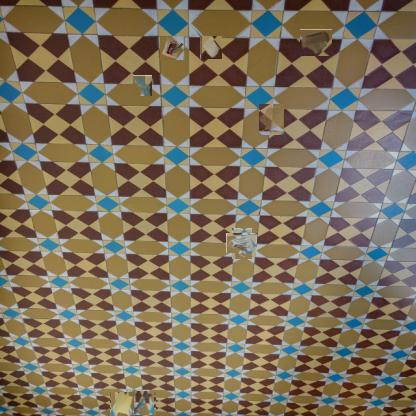dirty: (300, 29, 332, 56), (229, 231, 255, 256), (131, 391, 155, 416), (160, 36, 185, 60), (110, 392, 134, 416), (200, 36, 222, 58)
liquid: (258, 103, 284, 136), (132, 76, 153, 96)
